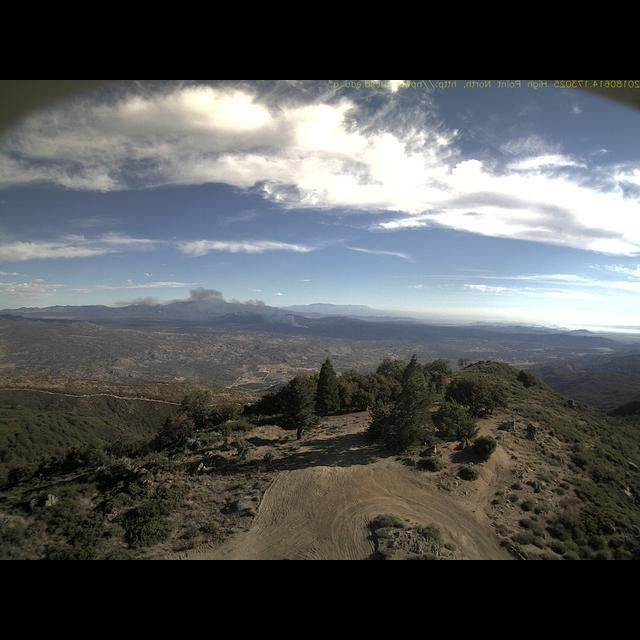Smoke: (133, 284, 320, 331)
